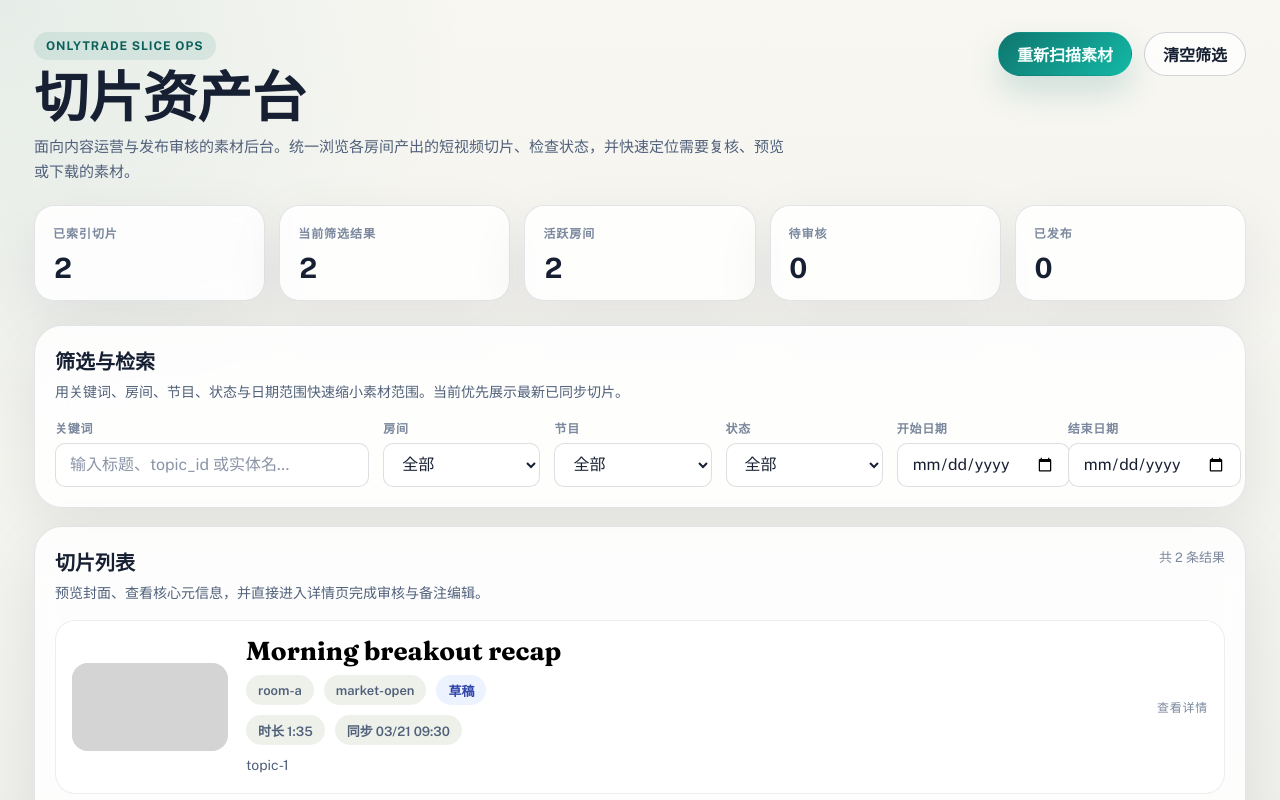
SegmentListPage › updates the keyword filter in the query and filtered view
The image size is (1280, 800).
expect the heading "Morning breakout recap" is shown: met, box [246,635,561,667]
Type "midday" into the field labelled "关键词" at [212, 465], box [55,443,369,487]
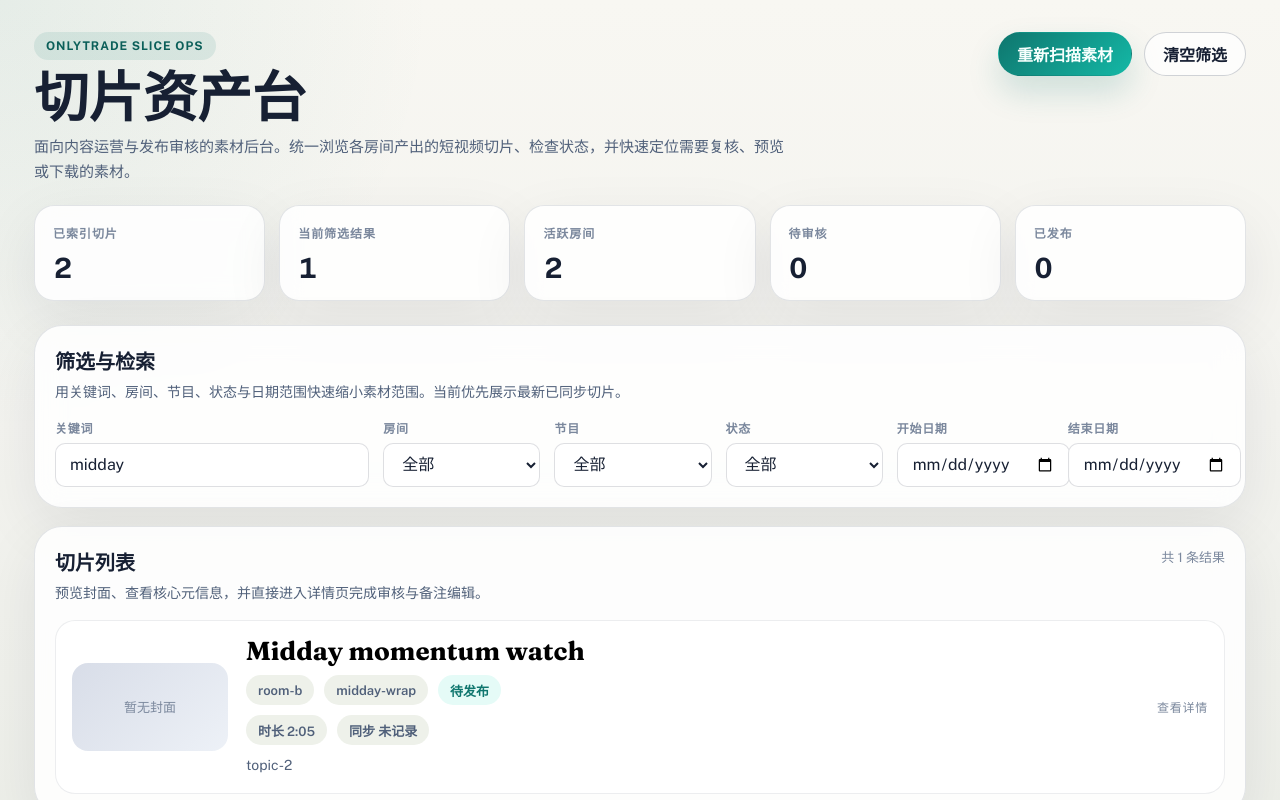
expect the heading "Midday momentum watch" is shown: met, box [246,635,585,667]
expect the button "Morning breakout recap" is gone: met
